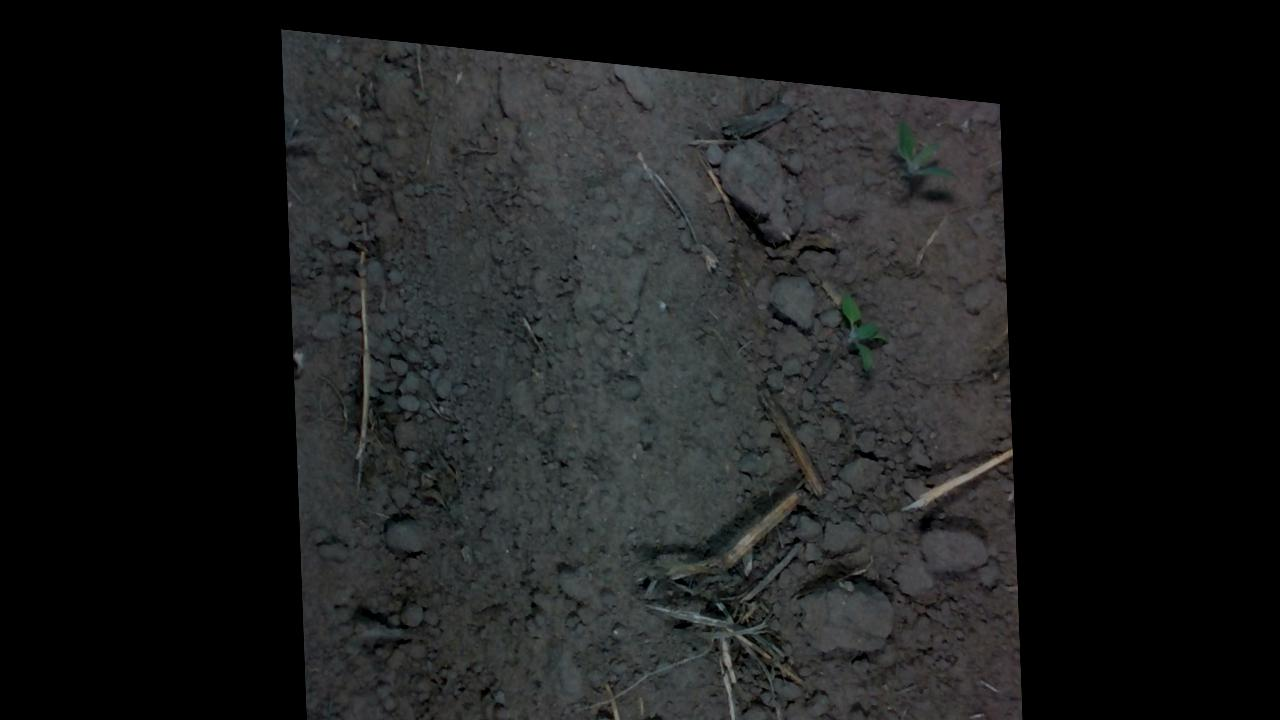weed: (837, 271, 892, 356)
